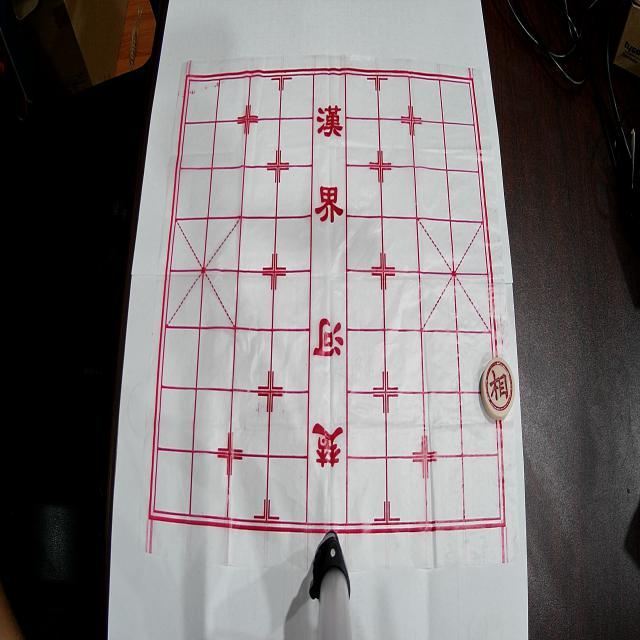red-elephant: (481, 358, 515, 420)
